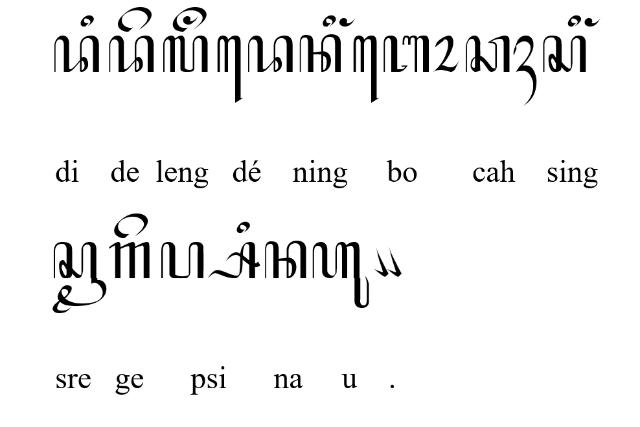_h1: (514, 35, 536, 104)
_s: (208, 241, 260, 279)
b: (383, 35, 429, 73)
c: (465, 35, 511, 73)
d: (108, 35, 156, 73), (247, 35, 295, 73)
e: (118, 7, 152, 33), (114, 213, 148, 239)
e1: (215, 35, 242, 103), (353, 35, 379, 103)
eng: (172, 6, 206, 32)
g: (108, 242, 150, 278)
hu: (312, 242, 370, 308)
i: (80, 14, 94, 28), (237, 220, 251, 234), (322, 14, 336, 26), (568, 16, 582, 26)
kom: (54, 35, 102, 73), (388, 248, 402, 278), (374, 248, 388, 276)
l: (163, 36, 209, 72)
n: (264, 241, 308, 279), (299, 35, 341, 73)
ng: (584, 18, 602, 26), (340, 18, 356, 26)
o: (432, 35, 458, 73)
p: (160, 242, 204, 280)
s: (542, 35, 586, 73)
sre: (52, 241, 106, 314)
